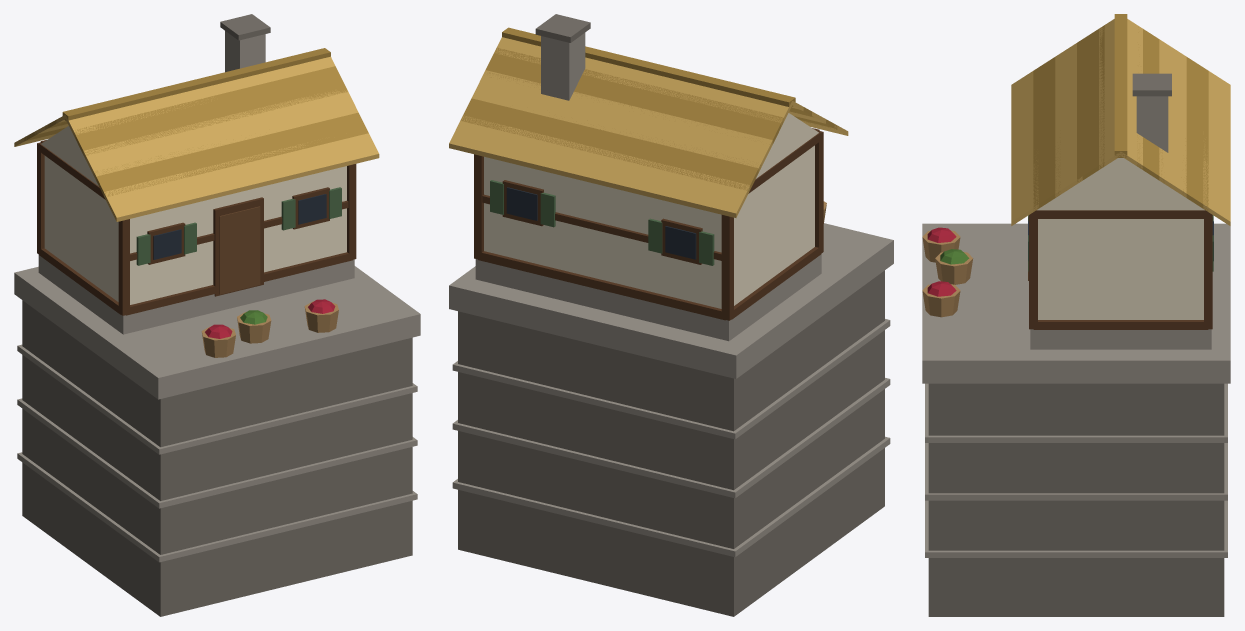
Rendered from forager.glb.
3 views of the same model, side by side, from view 1: azimuth 30°, elevation 25°; view 2: azimuth 150°, elevation 25°; view 3: azimuth 270°, elevation 25° (orthographic). The views are drawn at different scales.
Visible parts, largest first — view 1: forager; view 2: forager; view 3: forager.
Part boxes in pixels (bbox=[...]): forager: bbox=[14, 14, 420, 616]; forager: bbox=[449, 14, 893, 616]; forager: bbox=[922, 14, 1230, 616].
Bounding box in the file's own units: 5.1 × 8.72 × 4.85.
